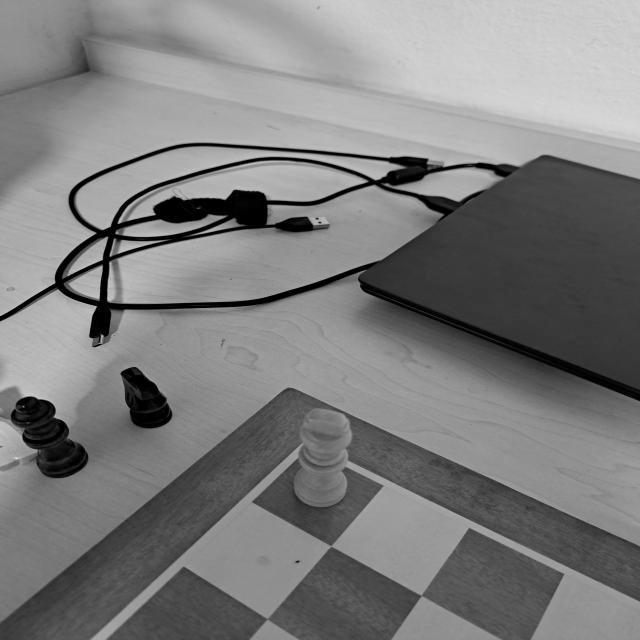chess-table-corners: (261, 433, 365, 474)
